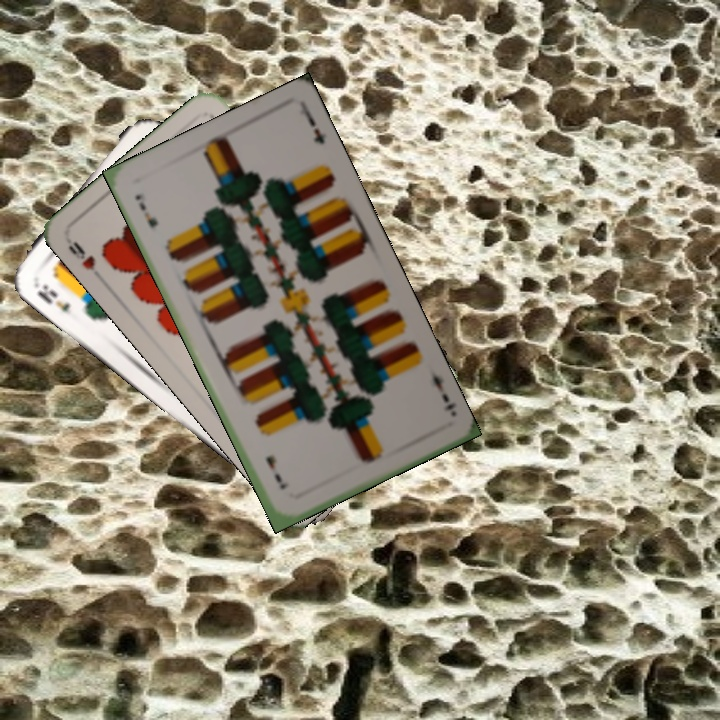E7: (425, 364, 459, 414), (130, 189, 161, 230)
EK: (33, 280, 73, 315)
H9: (64, 237, 98, 273)
